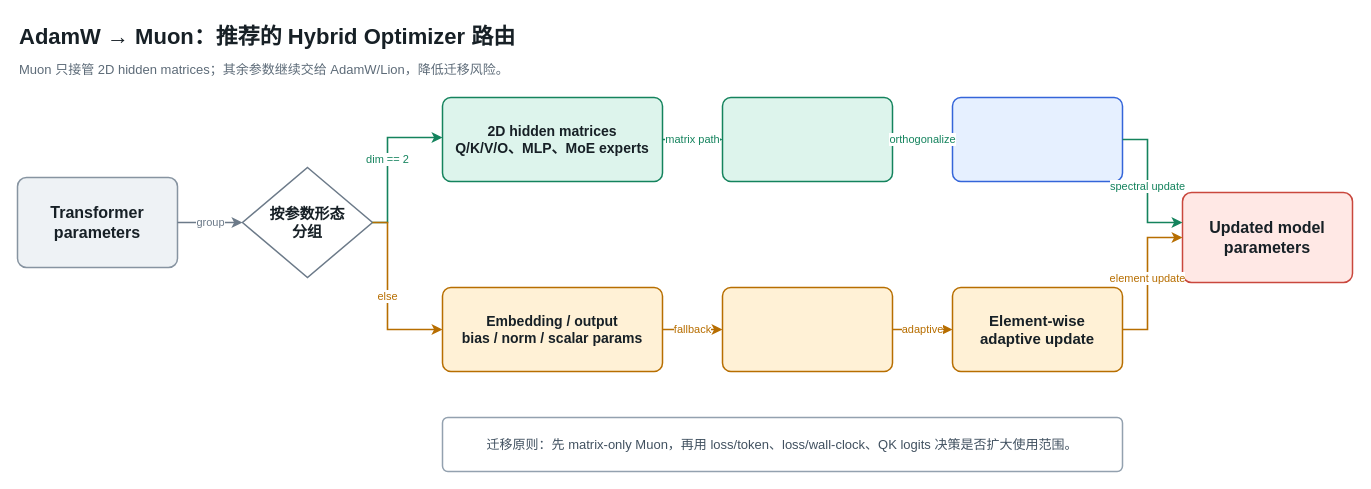
The diagram is 1371 pixels wide and 489 high, and some of its shapes have lost their labels. Here are the shapes that lost their labels. From the top down, the box of each, then its label:
(721, 96, 893, 182): Muon momentum buffer
(951, 96, 1123, 182): Newton-Schulz orthogonalization
(721, 286, 893, 372): AdamW / Lion scalar optimizer
